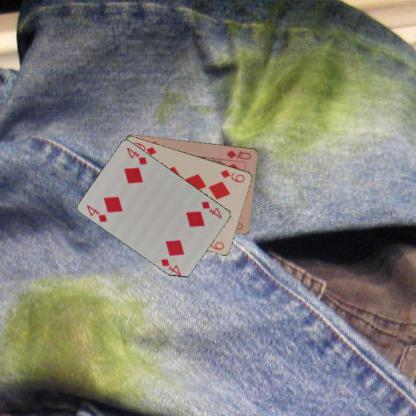4d: (198, 198, 223, 220), (84, 202, 109, 224)
9d: (218, 167, 246, 184)
Qd: (223, 147, 252, 161)
